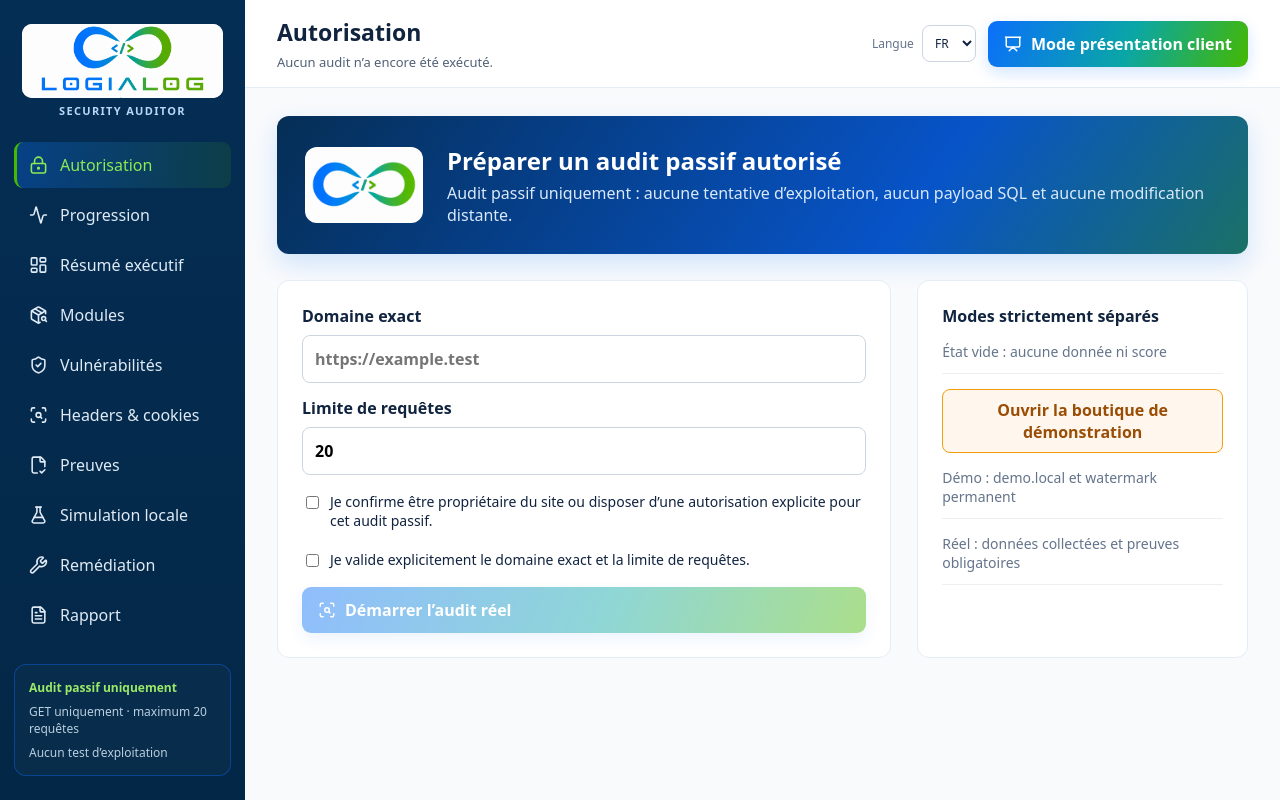
Scenario: App › labels the local lab as fictional
Click the button "Simulation locale" at [122, 515], box [14,492,231,538]
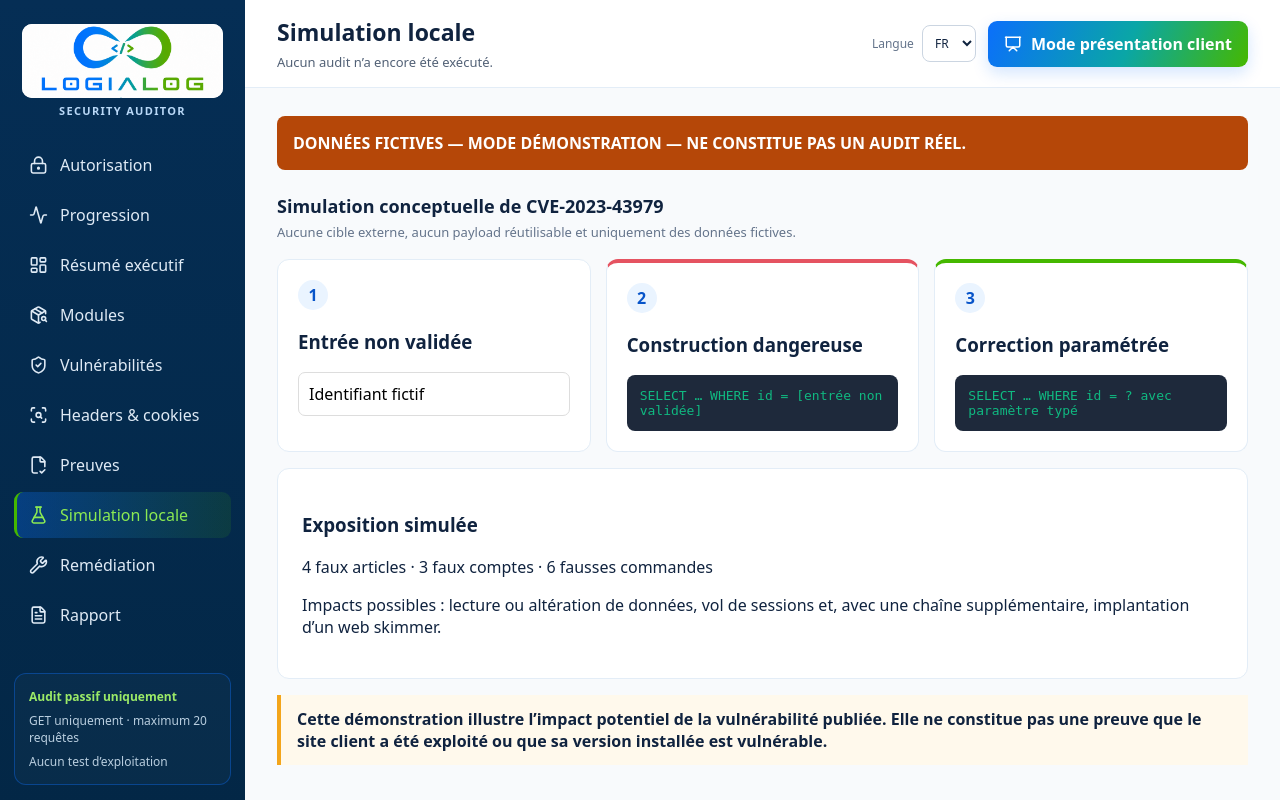
Now the text "DONNÉES FICTIVES — MODE DÉMONSTRATION" is shown, box [293,132,966,154]
